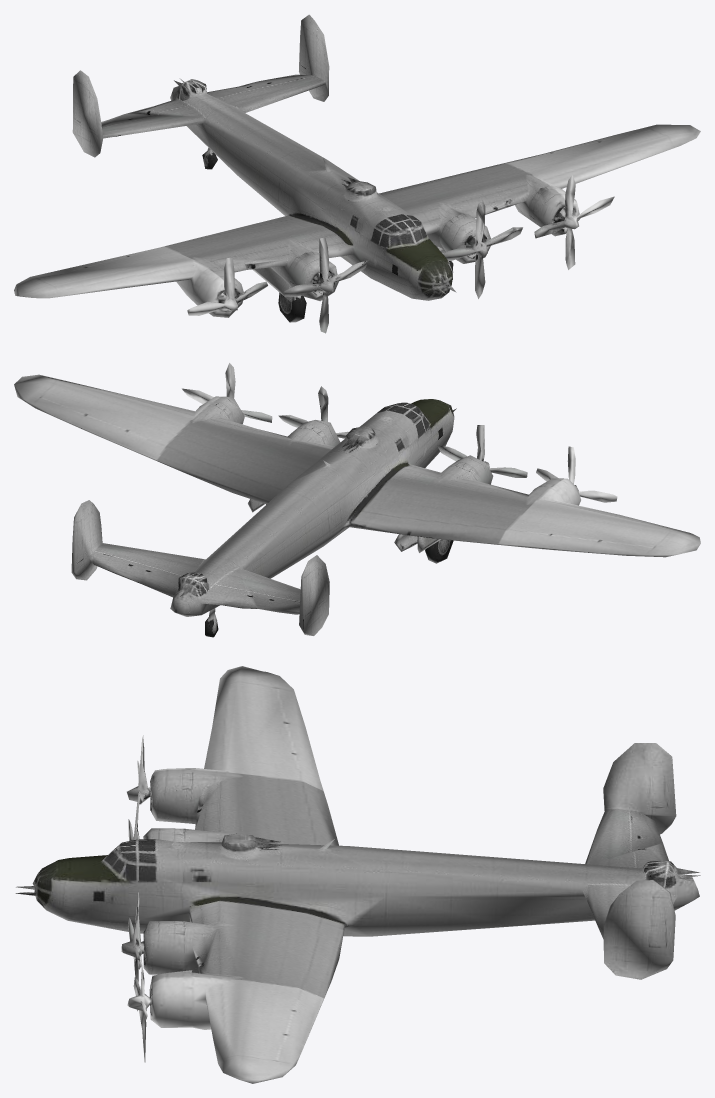
File: bomber.glb
3 renders of one model, top to bottom at view 1: azimuth 30°, elevation 25°; view 2: azimuth 150°, elevation 25°; view 3: azimuth 270°, elevation 25°, orthographic. The views are drawn at different scales.
Visible parts, largest first — view 1: bomber; view 2: bomber; view 3: bomber.
Part boxes in pixels (box(x1,y1,x2,y2)): bomber: box(14, 14, 700, 333); bomber: box(14, 363, 700, 637); bomber: box(15, 666, 700, 1083).
Size of the model in its own units: 29.94 by 5.73 by 21.
2 materials, 2 textured.
